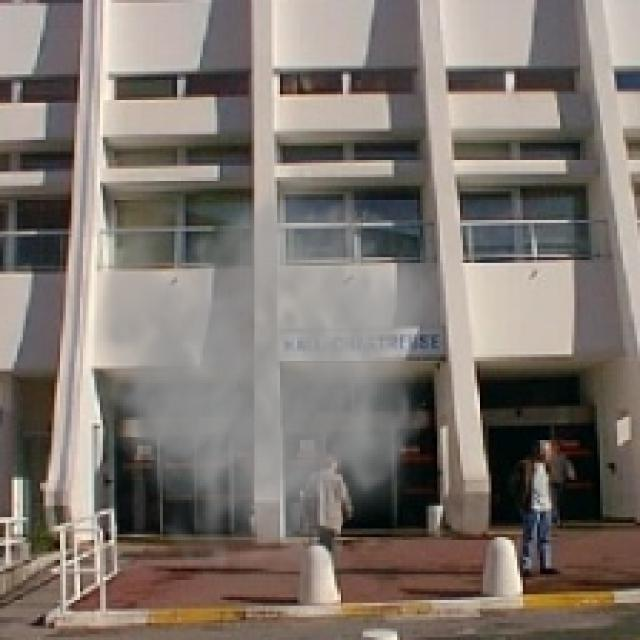smoke: (63, 168, 443, 586)
